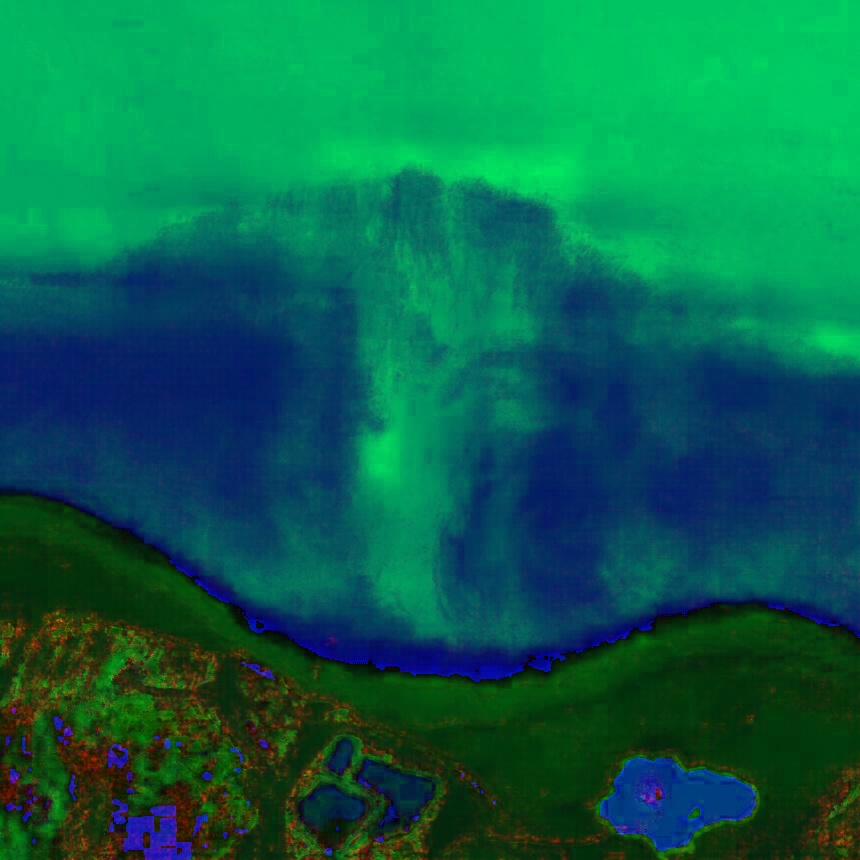rip_current: (305, 164, 552, 634)
